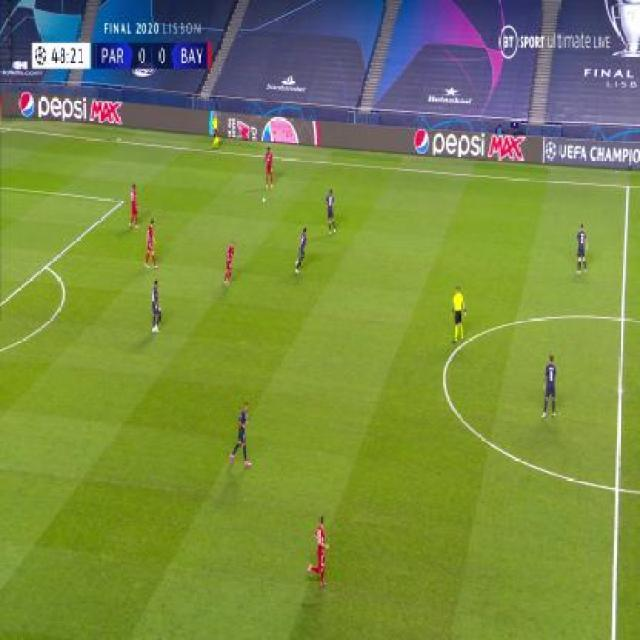ball: (262, 196, 267, 204)
player: (307, 514, 330, 590), (228, 400, 253, 468), (448, 283, 467, 346), (541, 352, 558, 420), (144, 217, 160, 271), (149, 276, 163, 335), (221, 237, 237, 286), (294, 225, 310, 273), (575, 221, 589, 275), (127, 182, 141, 230), (324, 187, 337, 236), (262, 146, 275, 189), (208, 110, 221, 150)
